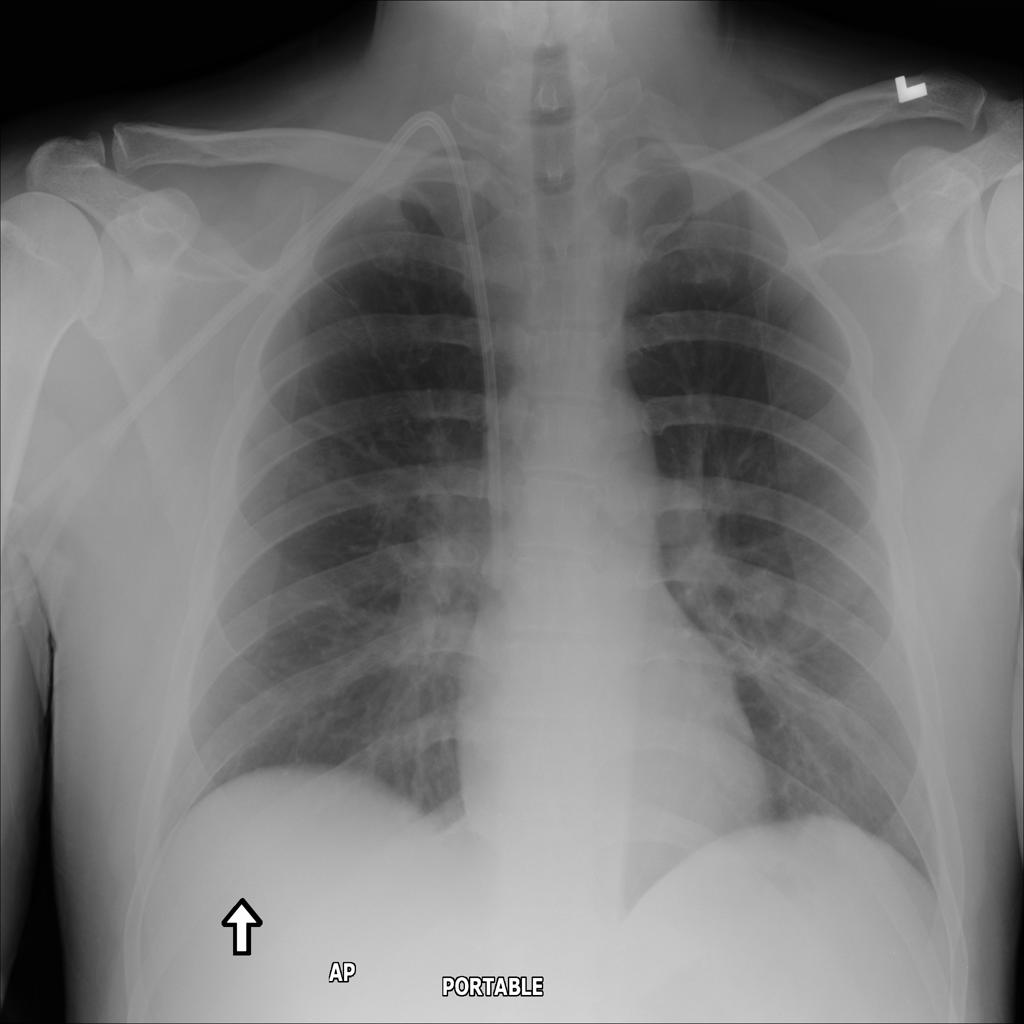nodule: (723, 556, 799, 630)
